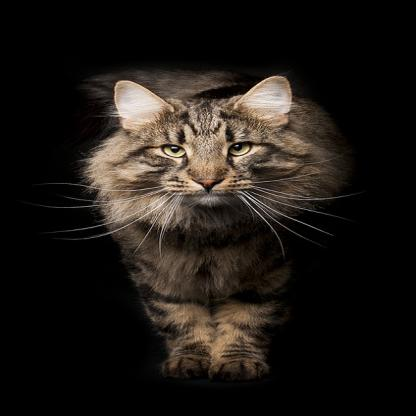cat: (81, 76, 350, 380)
